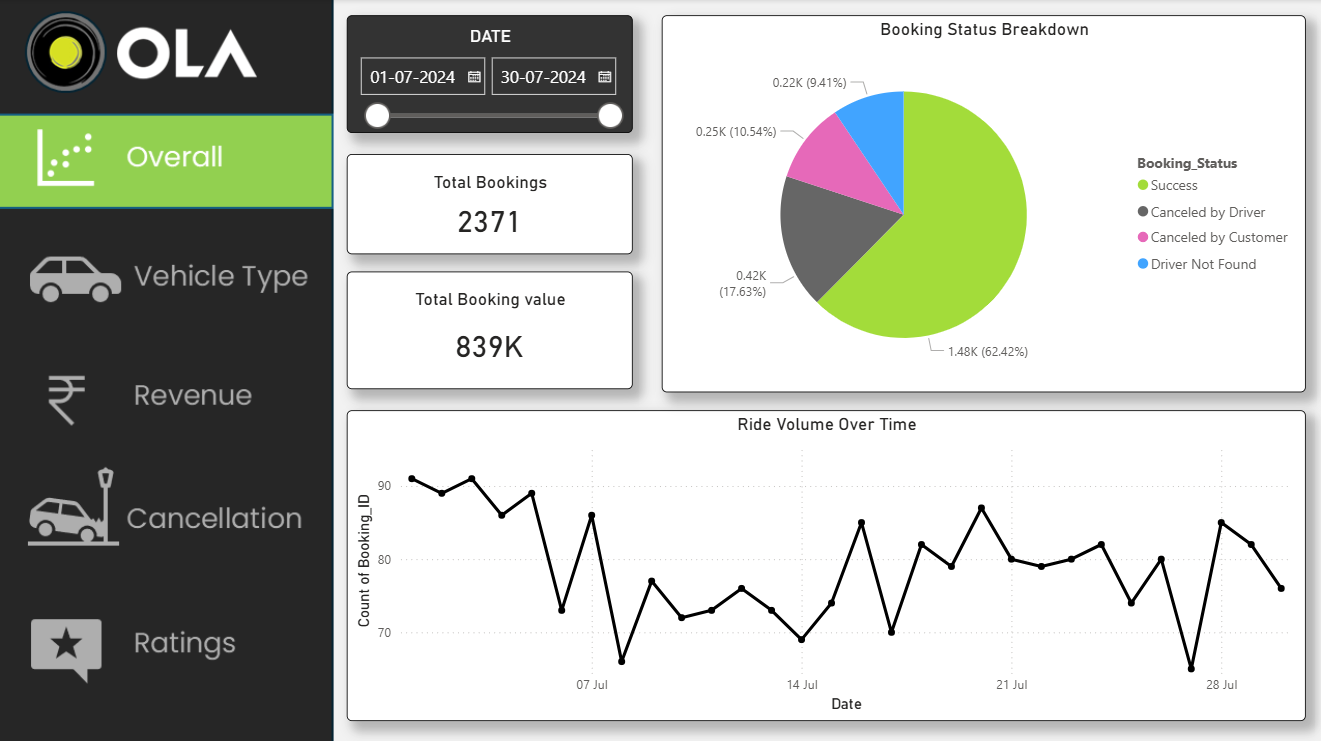

Layout of this report page (visuals, bound fields, positions):
{"tool":"powerbi","page":{"name":"Overall","canvas":[1280,720],"ordinal":0},"visuals":[{"type":"actionButton","box":[0,218.2,323.8,90.6],"z":0},{"type":"actionButton","box":[0,334.8,323.8,90.6],"z":1000},{"type":"actionButton","box":[0,450.1,323.8,90.6],"z":2000},{"type":"actionButton","box":[0,579.1,323.8,90.6],"z":3000},{"type":"lineChart","title":"Ride Volume Over Time","fields":{"Y":["CountNonNull(Bookings-2000-Rows.Booking_ID)"],"Category":["Bookings-2000-Rows.Date"]},"box":[336.2,396.4,925.9,299.8],"z":4000},{"type":"pieChart","title":"Booking Status Breakdown","fields":{"Category":["Bookings-2000-Rows.Booking_Status"],"Y":["CountNonNull(Bookings-2000-Rows.Booking_Status)"]},"box":[640.1,15.4,621.9,364.2],"z":5000},{"type":"slicer","title":"DATE","fields":{"Values":["Bookings-2000-Rows.Date"]},"box":[336.2,15.4,275.9,113.5],"z":6000},{"type":"card","title":"Total Bookings","fields":{"Values":["CountNonNull(Bookings-2000-Rows.Booking_ID)"]},"box":[336.2,149.9,275.9,96.7],"z":7000},{"type":"card","title":"Total Booking value","fields":{"Values":["Sum(Bookings-2000-Rows.Booking_Value)"]},"box":[336.2,263.3,275.9,113.5],"z":8000}]}

Visuals, with their boxes in screenshot pixels (x1, y1, x2, y2), scaled from the page's 1280x720 canvas onto the 1321x741 screenshot:
actionButton: (0, 225, 334, 318)
actionButton: (0, 345, 334, 438)
actionButton: (0, 463, 334, 556)
actionButton: (0, 596, 334, 689)
"Ride Volume Over Time" lineChart: (347, 408, 1303, 717)
"Booking Status Breakdown" pieChart: (661, 16, 1302, 391)
"DATE" slicer: (347, 16, 632, 133)
"Total Bookings" card: (347, 154, 632, 254)
"Total Booking value" card: (347, 271, 632, 388)
